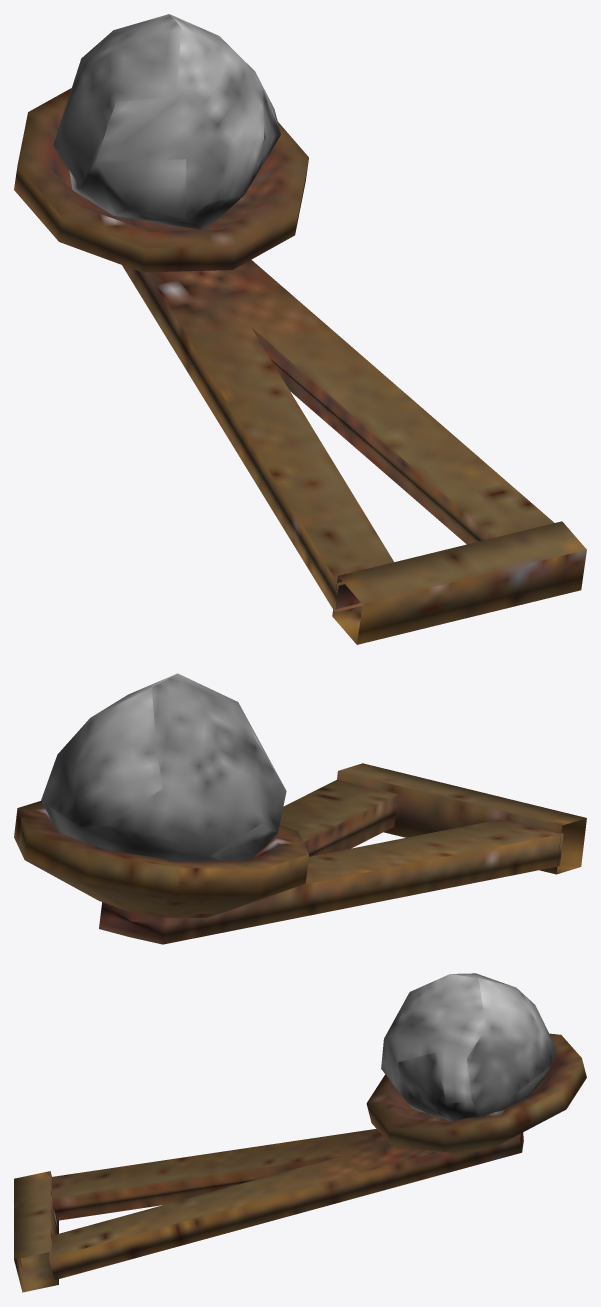
The model's file is CatapultPart.fbx.
3 renders of one model, top to bottom at view 1: azimuth 30°, elevation 25°; view 2: azimuth 150°, elevation 25°; view 3: azimuth 270°, elevation 25°, orthographic. The views are drawn at different scales.
Parts seen in each view (by area): view 1: Catapult2, rock; view 2: Catapult2, rock; view 3: Catapult2, rock.
Part boxes in pixels (box(x1,y1,x2,y2)): Catapult2: box(14, 88, 586, 644); rock: box(53, 14, 280, 229); Catapult2: box(14, 763, 586, 944); rock: box(41, 673, 286, 861); Catapult2: box(14, 1033, 586, 1292); rock: box(381, 973, 555, 1121).
Bounding box in the file's own units: 0.1415 × 0.2069 × 0.3854.
